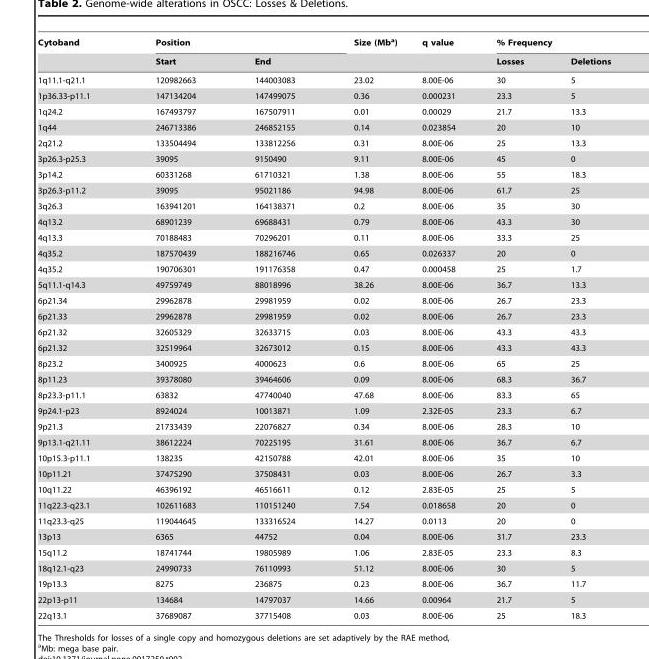table: (37, 36, 610, 619)
table column: (122, 36, 224, 619), (224, 36, 323, 619), (37, 36, 122, 619), (323, 36, 408, 619), (475, 36, 546, 619), (408, 36, 475, 619), (546, 36, 610, 619)
table column header: (37, 36, 610, 70)
table row: (37, 51, 610, 70), (37, 70, 610, 87), (37, 87, 610, 103), (37, 103, 610, 119), (37, 119, 610, 135), (37, 150, 610, 166), (37, 166, 610, 182), (37, 182, 610, 198), (37, 213, 610, 229), (37, 229, 610, 245), (37, 245, 610, 261), (37, 276, 610, 292), (37, 292, 610, 308), (37, 308, 610, 324), (37, 339, 610, 355), (37, 355, 610, 371), (37, 371, 610, 387), (37, 402, 610, 418), (37, 418, 610, 434), (37, 434, 610, 450), (37, 465, 610, 481), (37, 481, 610, 497), (37, 497, 610, 513), (37, 528, 610, 544), (37, 544, 610, 560), (37, 560, 610, 576), (37, 591, 610, 607), (37, 36, 610, 51), (37, 135, 610, 150), (37, 198, 610, 213), (37, 261, 610, 276), (37, 324, 610, 339), (37, 387, 610, 402), (37, 450, 610, 465), (37, 513, 610, 528), (37, 576, 610, 591), (37, 607, 610, 619)
table spanning cell: (122, 36, 323, 51), (37, 36, 122, 70), (323, 36, 408, 70), (408, 36, 475, 70), (475, 36, 610, 51)
